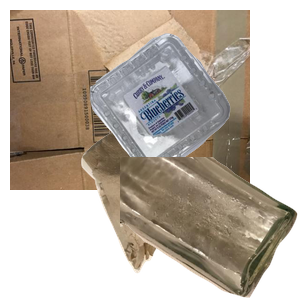cardboard: (10, 10, 250, 190)
glass: (120, 157, 300, 300)
plastic: (88, 31, 300, 198)
trash: (79, 123, 281, 300)
